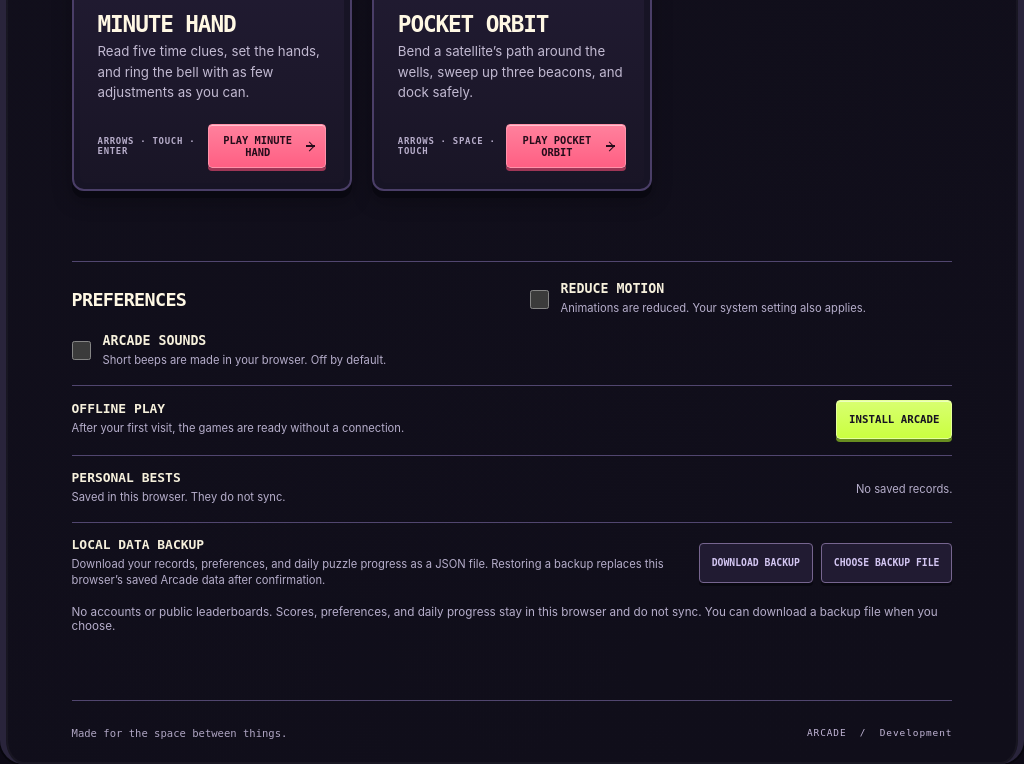
Test case: Arcade navigation and game controls › offers an install action when the browser allows Arcade to be installed
(page scrolled)
Click the button "Install Arcade".
click(894, 419)  # box [836, 400, 952, 439]
(page scrolled)
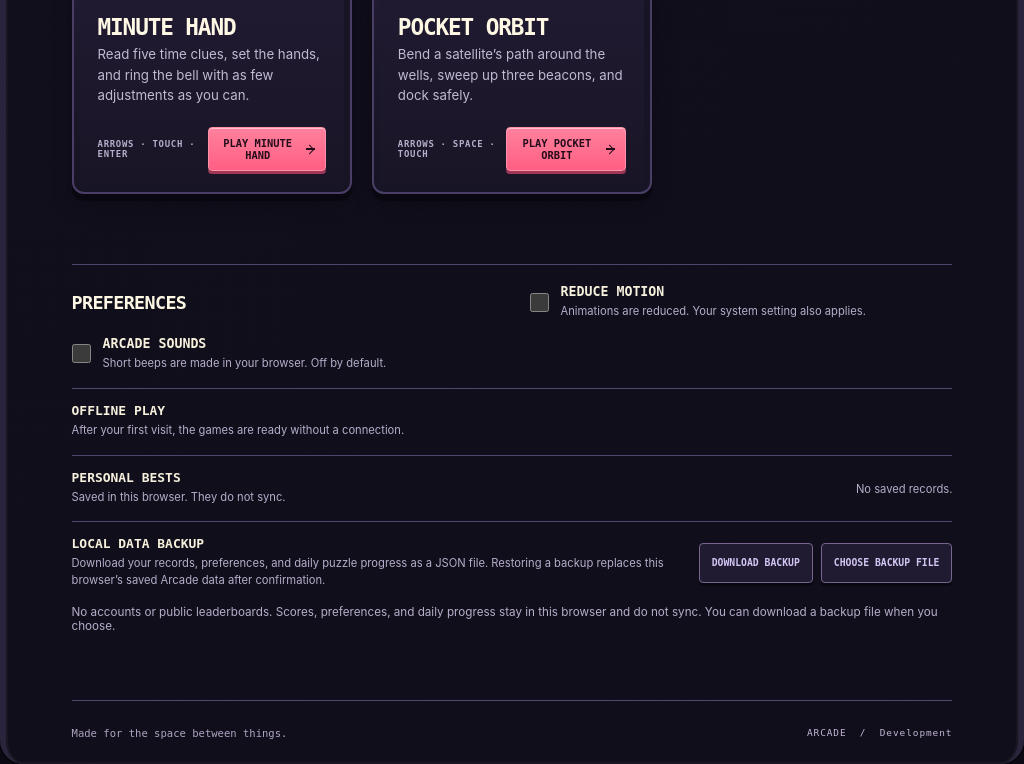
Now the button "Install Arcade" is gone
